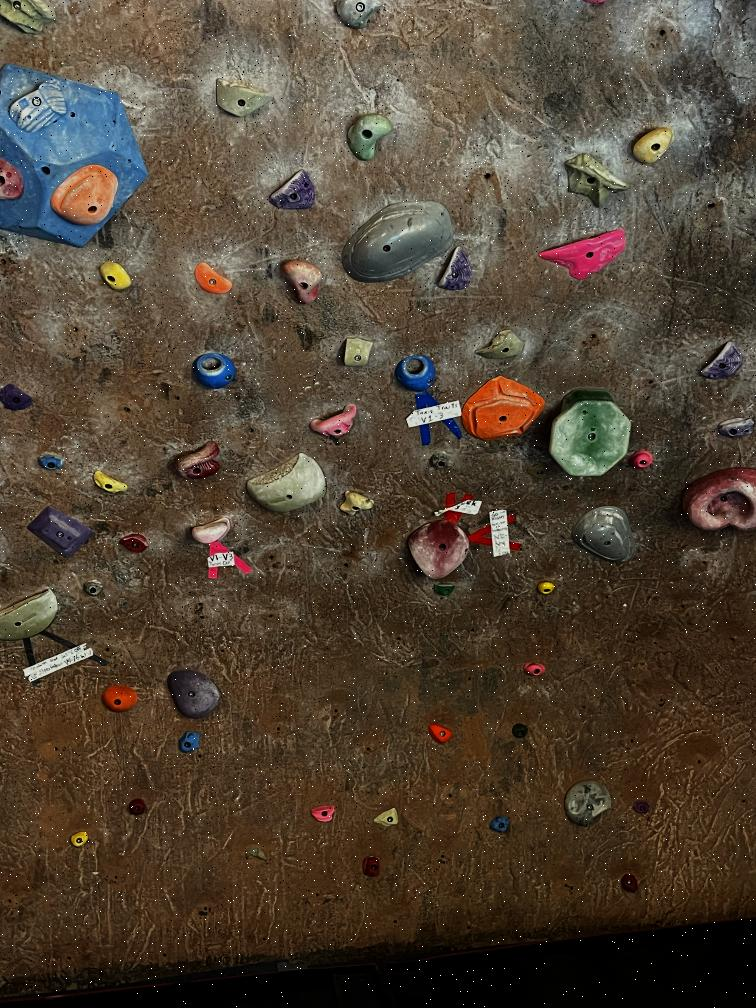Crimp: (9, 81, 68, 136), (700, 336, 750, 387), (267, 172, 321, 214), (436, 246, 475, 296), (190, 260, 235, 296), (92, 467, 126, 501), (716, 417, 756, 436), (4, 385, 31, 408)
Edges: (247, 458, 328, 506), (560, 153, 630, 208)
Foothold: (100, 262, 135, 294), (239, 842, 272, 866), (426, 720, 456, 746), (178, 728, 205, 756), (120, 531, 152, 553), (310, 803, 340, 826), (79, 577, 110, 598), (618, 873, 643, 898), (360, 853, 386, 876), (520, 660, 546, 680), (378, 807, 399, 831), (631, 452, 654, 471), (70, 826, 88, 849), (491, 817, 514, 834), (125, 800, 149, 816), (432, 581, 457, 596), (40, 457, 63, 473), (538, 580, 559, 597), (634, 799, 652, 818), (511, 724, 529, 738)
Jug: (552, 387, 630, 480), (542, 226, 623, 281), (405, 520, 472, 582), (280, 251, 330, 313), (170, 664, 220, 720), (346, 114, 395, 160), (178, 441, 226, 485), (310, 404, 364, 440), (627, 127, 678, 163), (339, 487, 375, 523), (186, 516, 232, 544)
Pinch: (56, 167, 121, 228), (212, 76, 272, 124), (32, 508, 92, 556), (480, 326, 530, 362), (340, 332, 374, 371)
Pocket: (459, 370, 544, 446), (682, 468, 756, 536), (189, 350, 241, 394), (398, 356, 436, 392)
Sloper: (338, 197, 462, 284), (576, 506, 637, 562), (562, 777, 617, 828), (103, 685, 140, 717)
